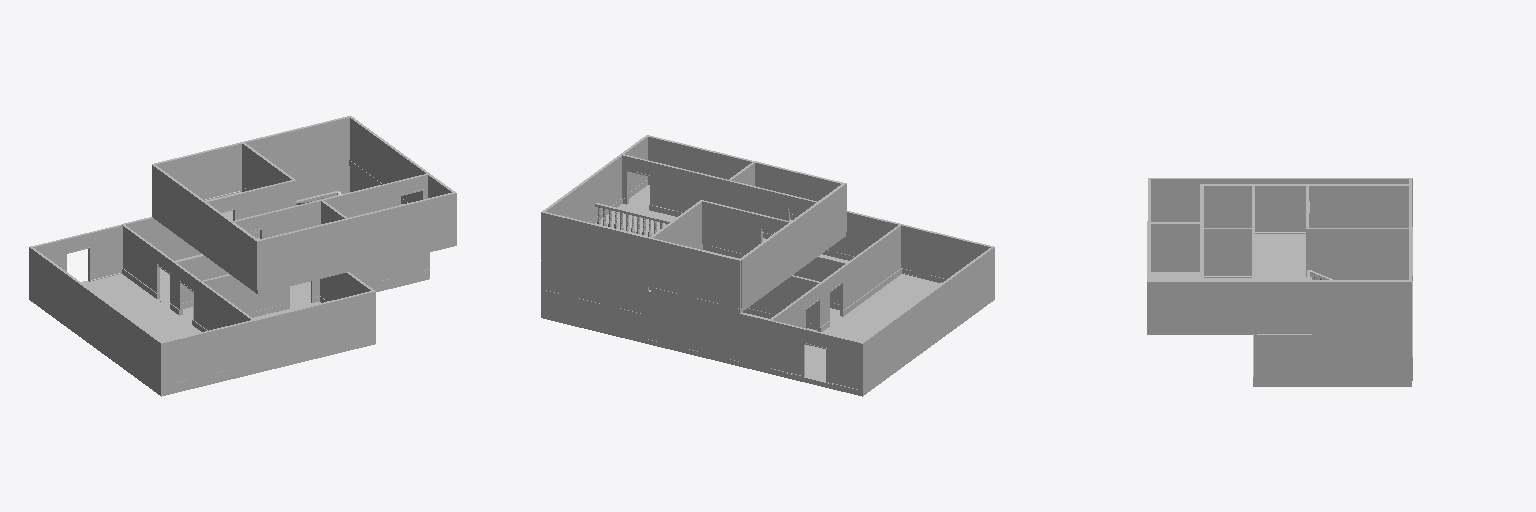
Rendered from CasaHabitacionV5.obj.
The picture shows the model from 3 angles: view 1: azimuth 30°, elevation 25°; view 2: azimuth 150°, elevation 25°; view 3: azimuth 270°, elevation 25°; orthographic projection.
Parts seen in each view (by area): view 1: PareNorteSA_Cube.035, ParedOesteCO_Cube.030, ParedOesteO_Cube.017, ParedOesteS_Cube.004, ParedEsteP_Cube.041, SueloSA_Cube.034, ParedOesteSA_Cube.037, ParedEsteH_Cube.005, ParedEsteSA_Cube.036, ParedNorteH_Cube.002, ParedEste_O_Cube.016, ParedSur2P_Cube.042 (+19 smaller); view 2: PareNorteSA_Cube.035, ParedEsteC_Cube.023, ParedEsteP_Cube.041, SueloSA_Cube.034, ParedEsteH_Cube.005, ParedEsteSA_Cube.036, ParedEste_O_Cube.016, ParedOesteSA_Cube.037, ParedOesteH_Cube.003, ParedNorteH_Cube.002, Plane_Plane, ParedEsteP0.001_Cube.021 (+19 smaller); view 3: ParedSurP02_Cube.020, ParedSur2P_Cube.042, ParedSurH_Cube.006, ParedNorteH_Cube.002, PareNorteSA_Cube.035, ParedSurP_Cube.008, ParedSurP0_Cube.019, ParedNorteP_Cube.009, SueloP_Cube.007, ParedSurO_Cube.018, ParedSurS_Cube.014, ParedNorteCO_Cube.029 (+3 smaller).
Part boxes in pixels (left/top/right/bottom): PareNorteSA_Cube.035: left=29, top=246, right=163, bottom=391; ParedOesteCO_Cube.030: left=253, top=290, right=375, bottom=368; ParedOesteO_Cube.017: left=349, top=192, right=456, bottom=261; ParedOesteS_Cube.004: left=256, top=218, right=348, bottom=288; ParedEsteP_Cube.041: left=244, top=116, right=351, bottom=182; SueloSA_Cube.034: left=29, top=274, right=252, bottom=396; ParedOesteSA_Cube.037: left=163, top=320, right=255, bottom=385; ParedEsteH_Cube.005: left=152, top=142, right=244, bottom=200; ParedEsteSA_Cube.036: left=32, top=225, right=122, bottom=281; ParedNorteH_Cube.002: left=152, top=165, right=203, bottom=250; ParedEste_O_Cube.016: left=323, top=173, right=429, bottom=217; ParedSur2P_Cube.042: left=350, top=117, right=399, bottom=183; PareNorteSA_Cube.035: left=860, top=246, right=994, bottom=391; ParedEsteC_Cube.023: left=648, top=290, right=771, bottom=368; ParedEsteP_Cube.041: left=541, top=211, right=648, bottom=290; SueloSA_Cube.034: left=771, top=274, right=994, bottom=396; ParedEsteH_Cube.005: left=648, top=237, right=740, bottom=308; ParedEsteSA_Cube.036: left=768, top=320, right=860, bottom=390; ParedEste_O_Cube.016: left=620, top=154, right=726, bottom=212; ParedOesteSA_Cube.037: left=900, top=224, right=991, bottom=282; ParedOesteH_Cube.003: left=700, top=200, right=791, bottom=254; ParedNorteH_Cube.002: left=740, top=222, right=792, bottom=307; Plane_Plane: left=544, top=290, right=647, bottom=338; ParedEsteP0.001_Cube.021: left=544, top=266, right=647, bottom=314; ParedSurP02_Cube.020: left=1312, top=330, right=1411, bottom=382; ParedSur2P_Cube.042: left=1312, top=280, right=1408, bottom=329; ParedSurH_Cube.006: left=1309, top=228, right=1408, bottom=279; ParedNorteH_Cube.002: left=1309, top=184, right=1408, bottom=227; PareNorteSA_Cube.035: left=1148, top=178, right=1412, bottom=226; ParedSurP_Cube.008: left=1255, top=280, right=1311, bottom=329; ParedSurP0_Cube.019: left=1255, top=334, right=1311, bottom=382; ParedNorteP_Cube.009: left=1255, top=184, right=1305, bottom=233; SueloP_Cube.007: left=1253, top=234, right=1311, bottom=333; ParedSurO_Cube.018: left=1204, top=280, right=1251, bottom=329; ParedSurS_Cube.014: left=1203, top=228, right=1251, bottom=277; ParedNorteCO_Cube.029: left=1151, top=222, right=1199, bottom=271.
Size of the model in its own units: 21.02 by 6.6 by 15.